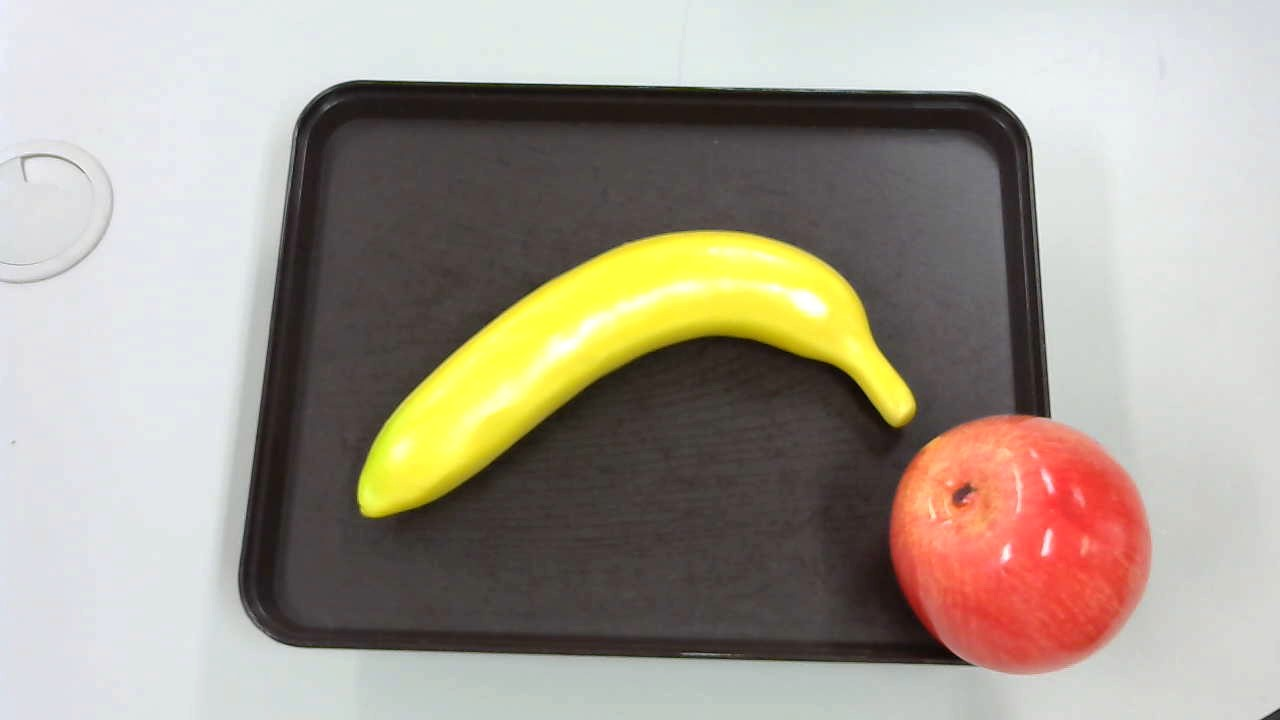banana: (351, 227, 917, 509)
red apple: (874, 407, 1159, 685)
